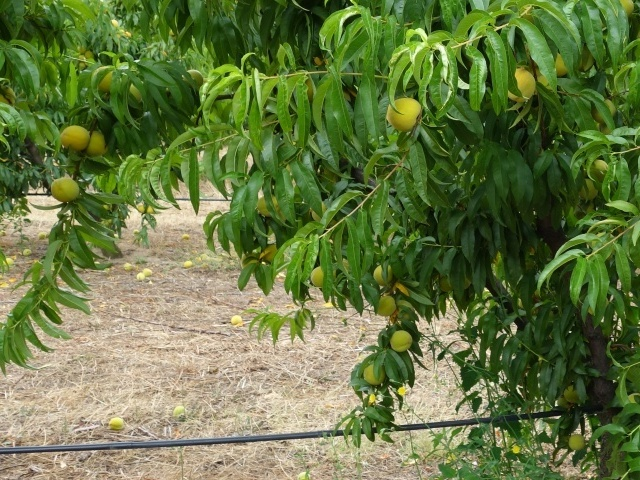peach: (381, 94, 426, 135), (507, 64, 540, 104), (48, 174, 84, 207), (57, 122, 94, 154), (80, 131, 116, 162), (589, 93, 619, 128), (255, 193, 283, 222), (372, 292, 400, 320), (359, 362, 387, 389), (307, 263, 332, 290), (579, 175, 600, 206), (387, 329, 413, 353), (561, 382, 584, 409), (372, 263, 397, 287), (183, 68, 206, 92), (565, 432, 588, 455)
